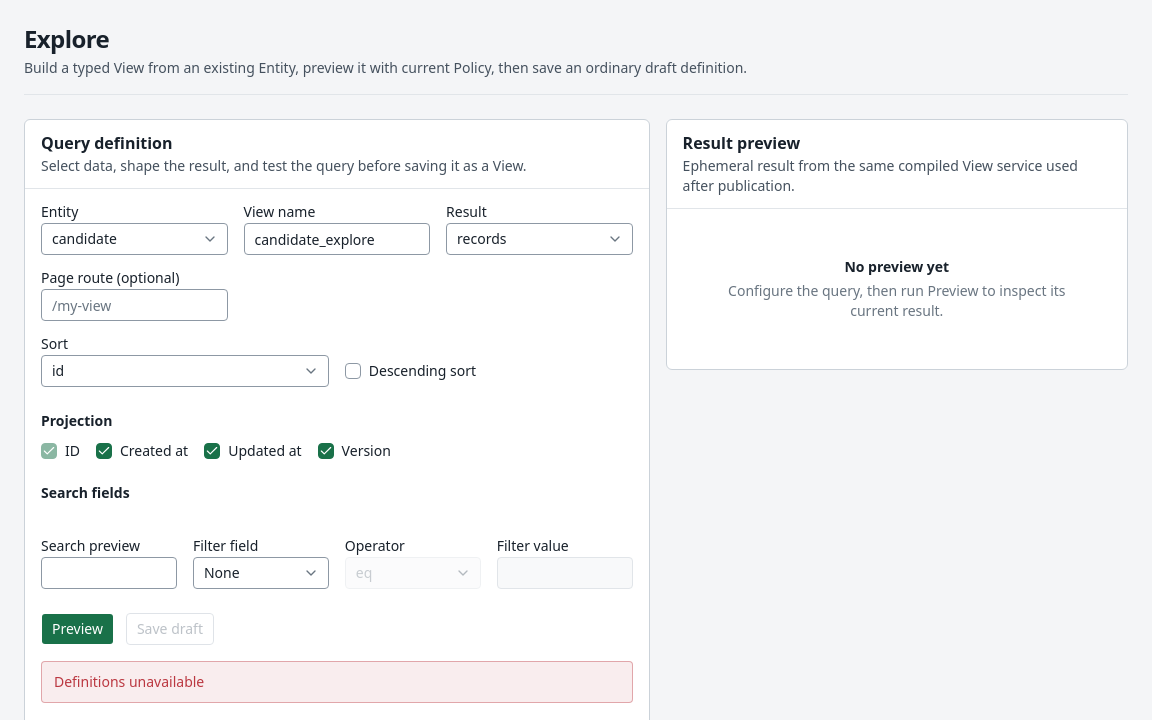
it: fails closed when draft conflicts cannot be loaded
The image size is (1152, 720).
expect the dropdown with test id "explore-entity" is shown: met, box [41,223,228,255]
Click the button with test id "explore-preview" at [77, 629], box [41,613,114,645]
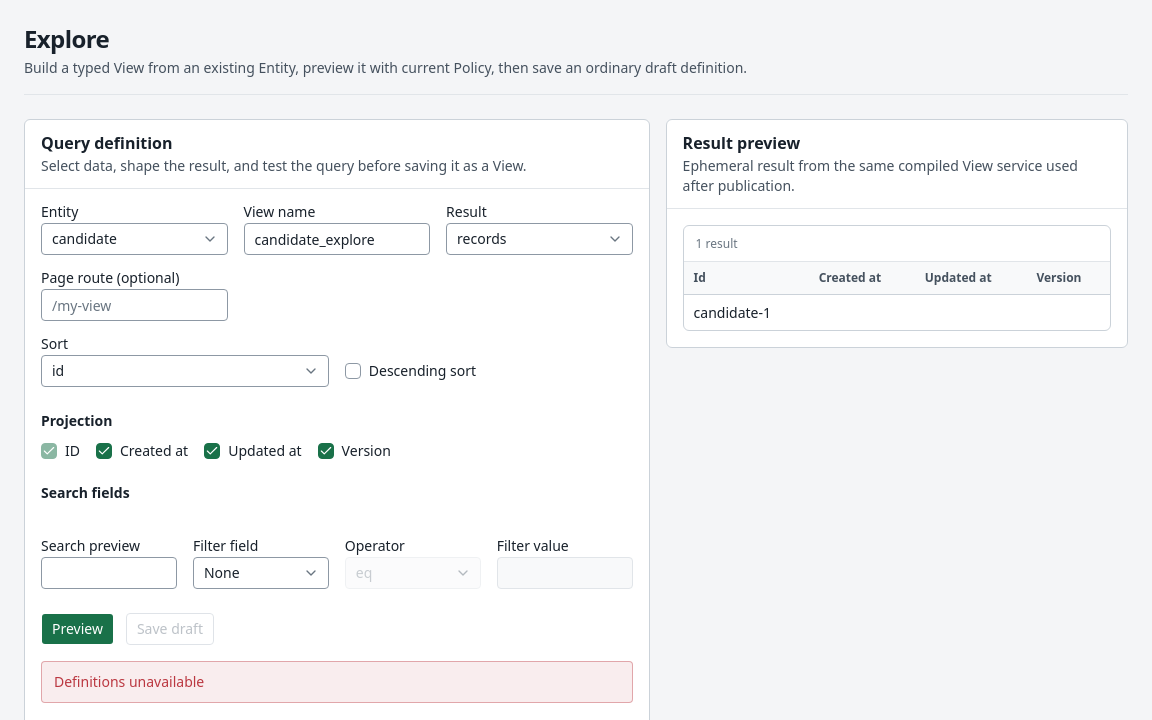
expect the text "Definitions unavailable" is shown: met, box [54,672,204,691]
expect the text "candidate-1" is shown: met, box [694,303,771,322]
